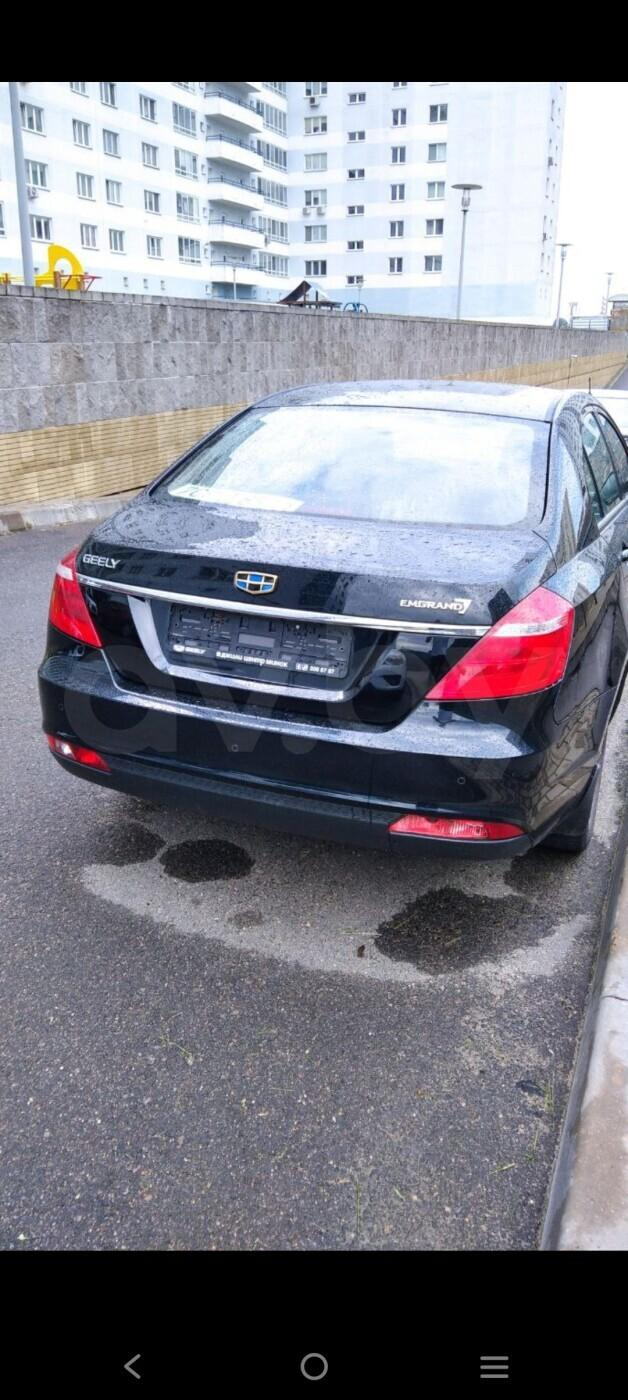Emgrand_2019-2021: (39, 380, 627, 859)
